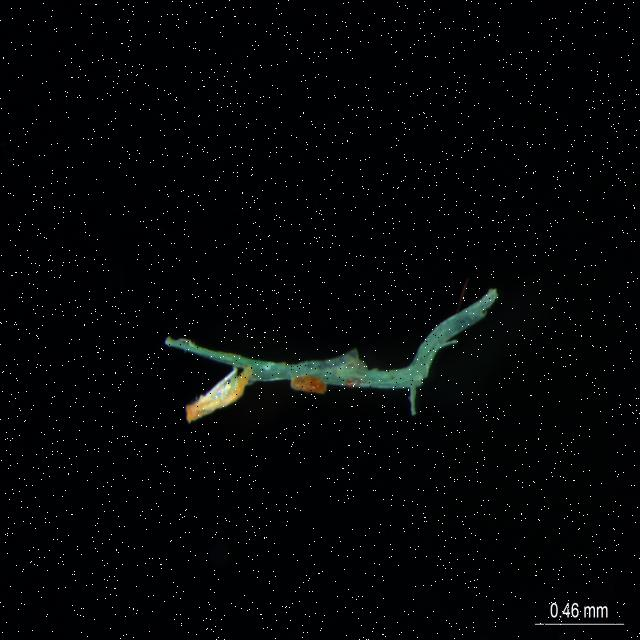fibers: (165, 273, 519, 459)
